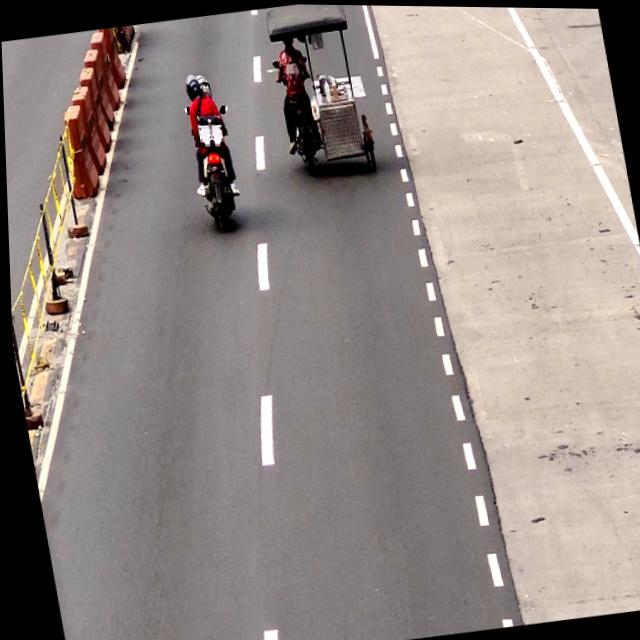Motorcycle: (179, 69, 240, 231)
Tricycle: (267, 3, 374, 167)
